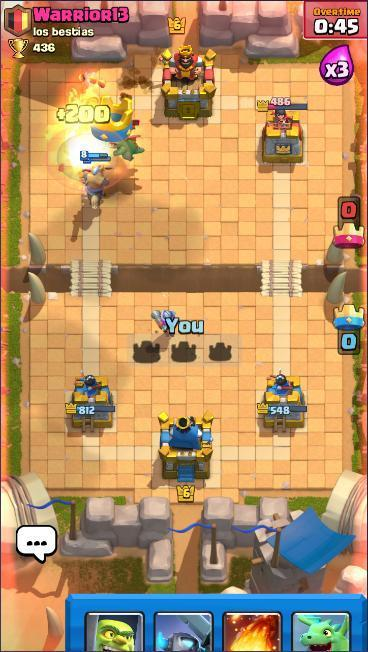ally_musketeer: (150, 307, 178, 336)
ally_prince: (77, 148, 112, 210)
enemy_baby_dragon: (101, 115, 147, 163)
